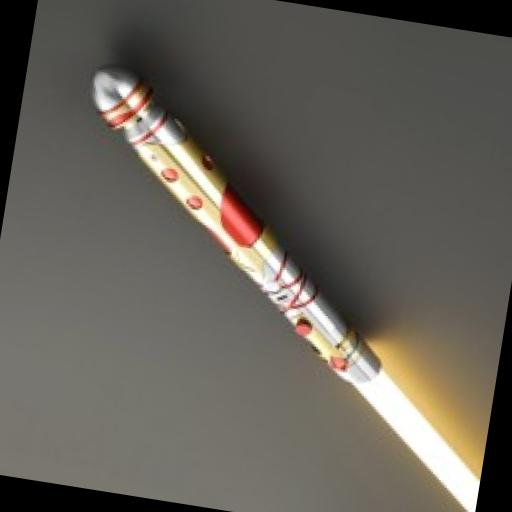lightsaber: (35, 61, 512, 512)
